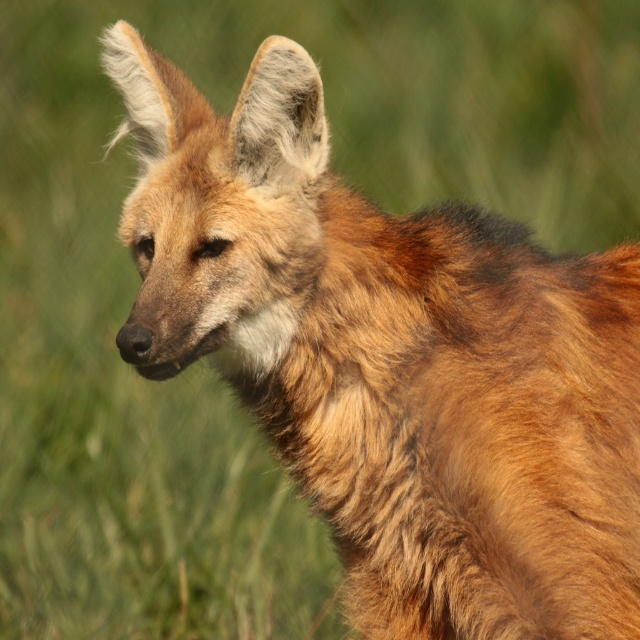Fox: (88, 15, 640, 640)
